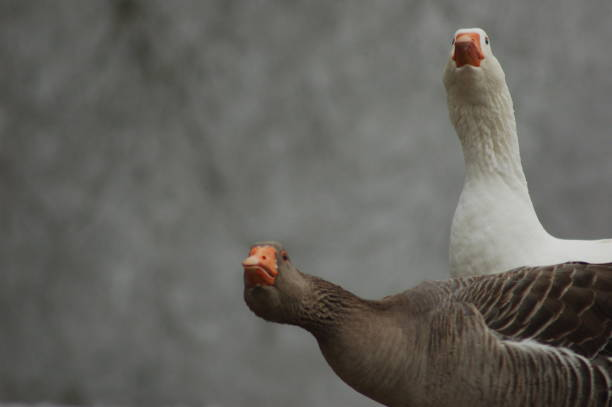goose: (226, 231, 612, 407), (441, 22, 612, 269)
